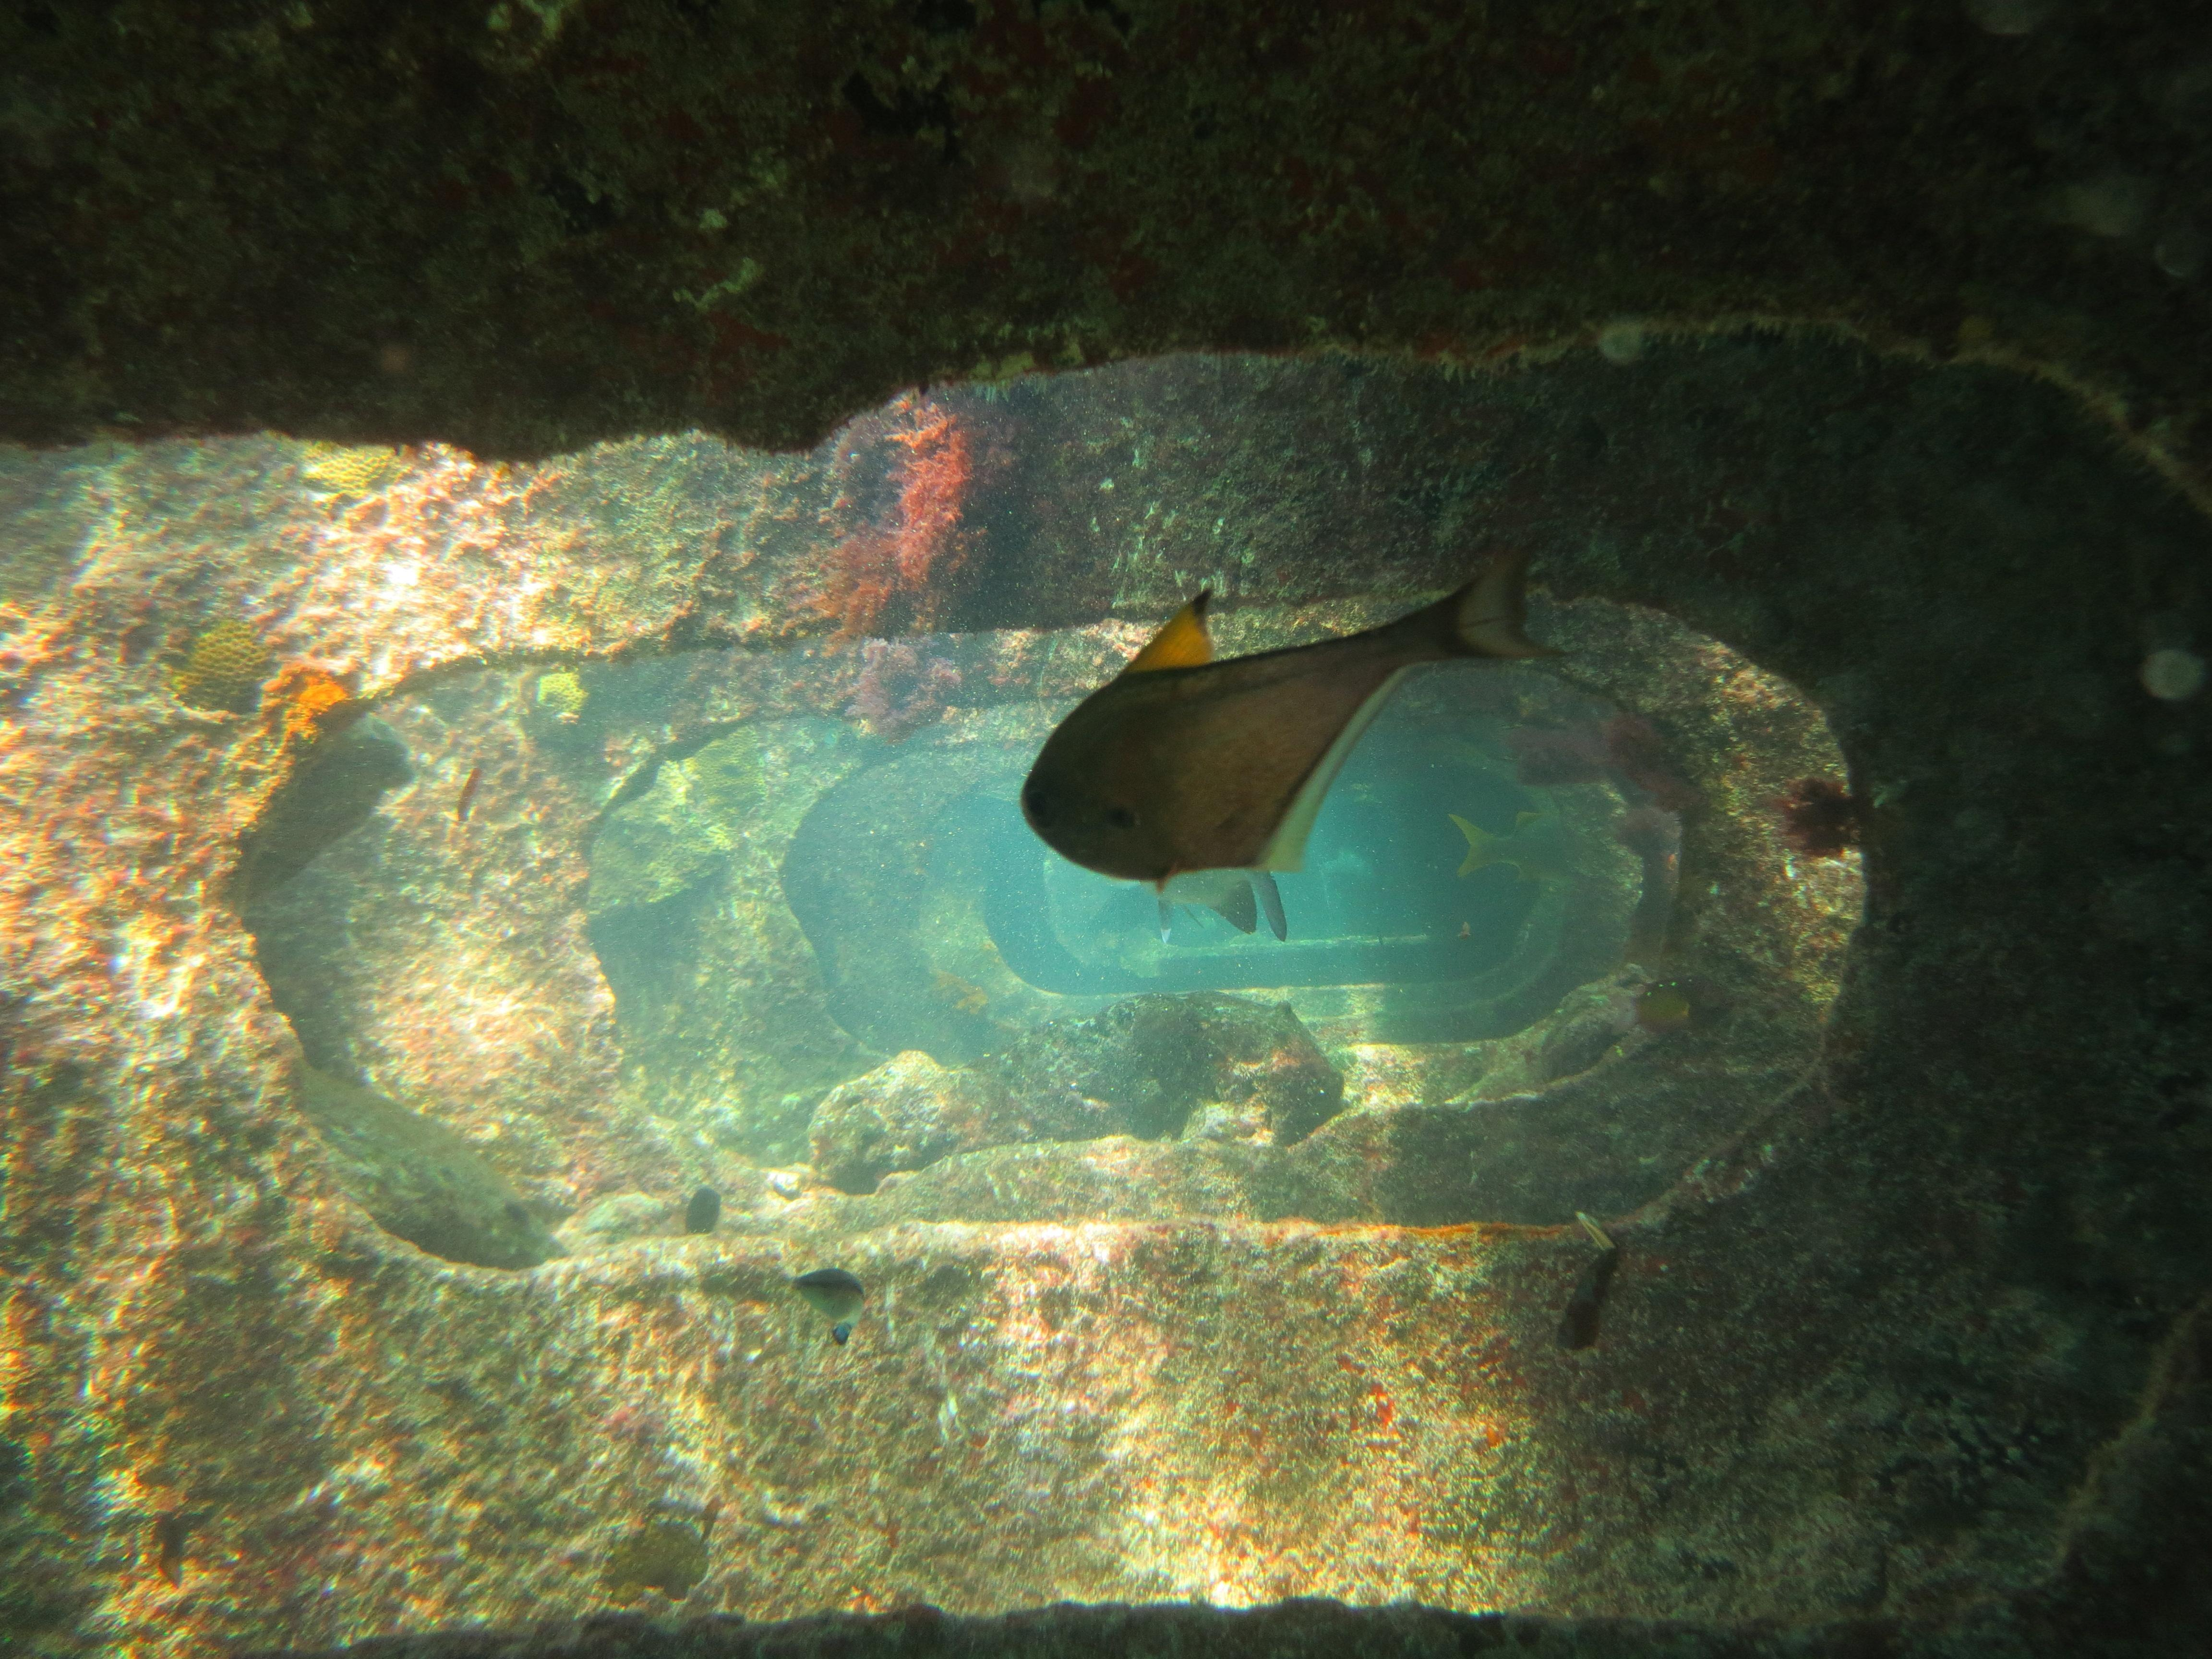Fish: (871, 533, 1634, 929)
